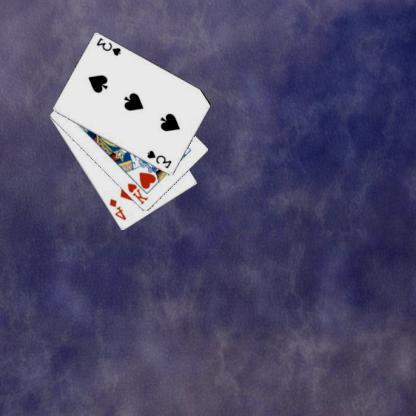3S: (96, 35, 124, 58), (146, 148, 175, 170)
4D: (109, 196, 129, 222)
KH: (127, 181, 151, 206)
